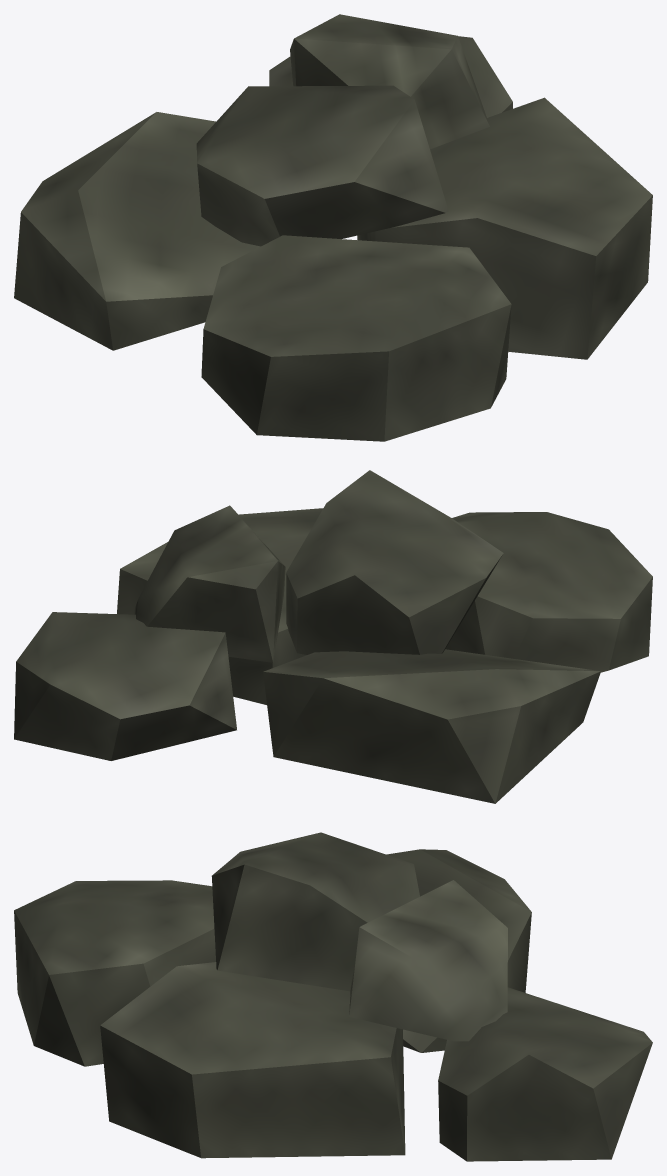
The model's file is Rock_17C.fbx.
3 views of the same model, one above another, from view 1: azimuth 30°, elevation 25°; view 2: azimuth 150°, elevation 25°; view 3: azimuth 270°, elevation 25° (orthographic). The views are drawn at different scales.
Visible parts, largest first — view 1: Rock_17C; view 2: Rock_17C; view 3: Rock_17C.
Boxes of the visible parts, x1,y1,x2,y2 form: Rock_17C: [14, 14, 652, 441]; Rock_17C: [14, 470, 652, 803]; Rock_17C: [14, 832, 652, 1161].
Bounding box in the file's own units: 101 × 43.82 × 119.
1 material, 1 textured.
